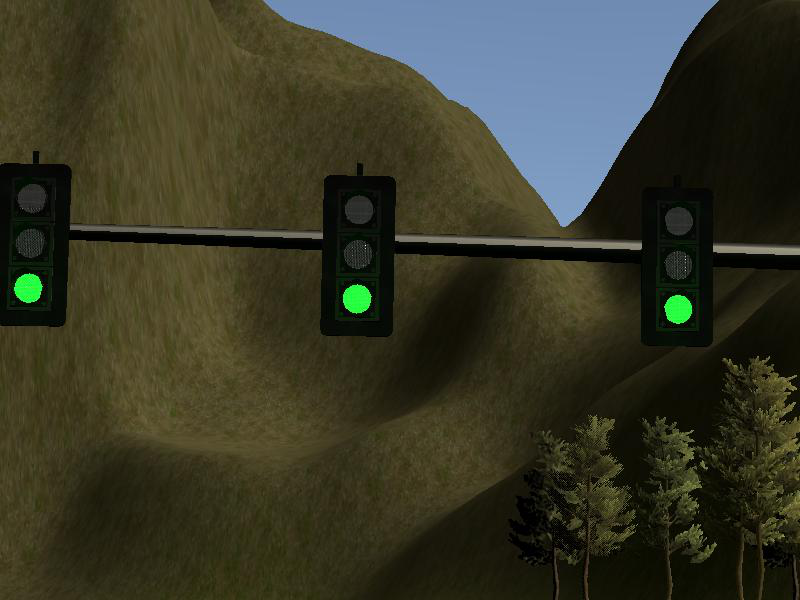green: (323, 175, 394, 337), (1, 166, 71, 325), (644, 195, 715, 347)
